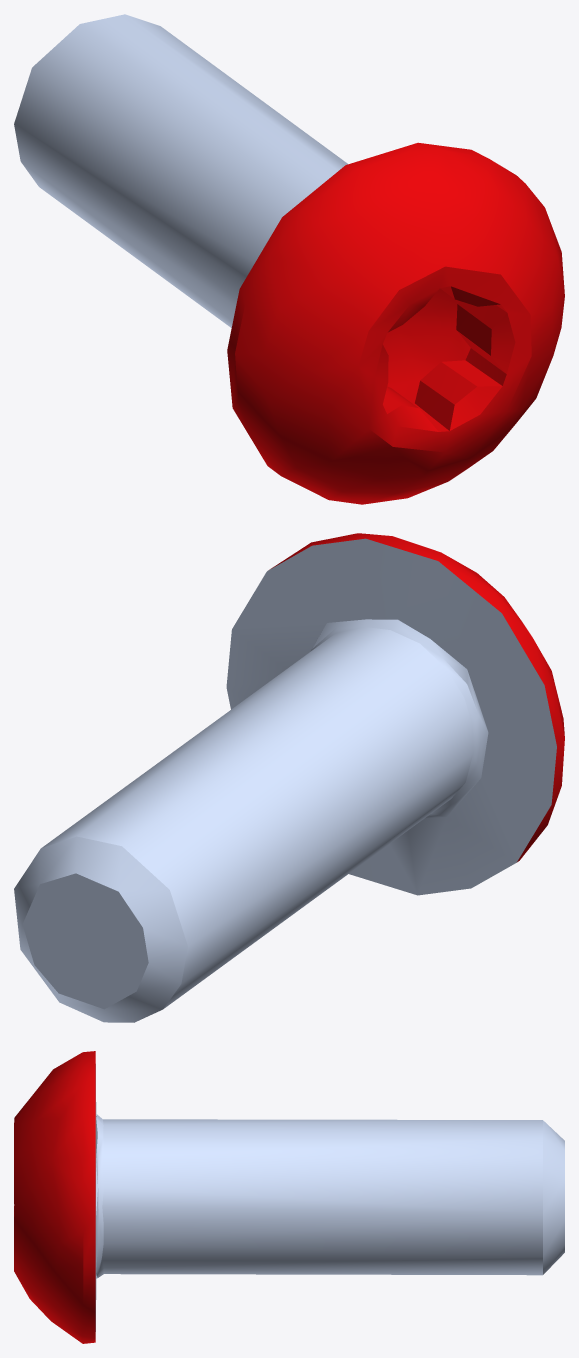
File: Colored__8-32_x_1_2_Star_Drive_Screw__276-4992__001.glb
3 views of the same model, one above another, from view 1: azimuth 30°, elevation 25°; view 2: azimuth 150°, elevation 25°; view 3: azimuth 270°, elevation 25° (orthographic). The views are drawn at different scales.
Visible parts, largest first — view 1: Colored #8-32 x 1_2 Star Drive Screw (276-4992).001; view 2: Colored #8-32 x 1_2 Star Drive Screw (276-4992).001; view 3: Colored #8-32 x 1_2 Star Drive Screw (276-4992).001.
Boxes of the visible parts, left/top/right/bottom form: Colored #8-32 x 1_2 Star Drive Screw (276-4992).001: left=14, top=14, right=564, bottom=504; Colored #8-32 x 1_2 Star Drive Screw (276-4992).001: left=14, top=533, right=564, bottom=1022; Colored #8-32 x 1_2 Star Drive Screw (276-4992).001: left=14, top=1051, right=564, bottom=1343.
Size of the model in its own units: 0.3122 by 0.3122 by 0.5871.
